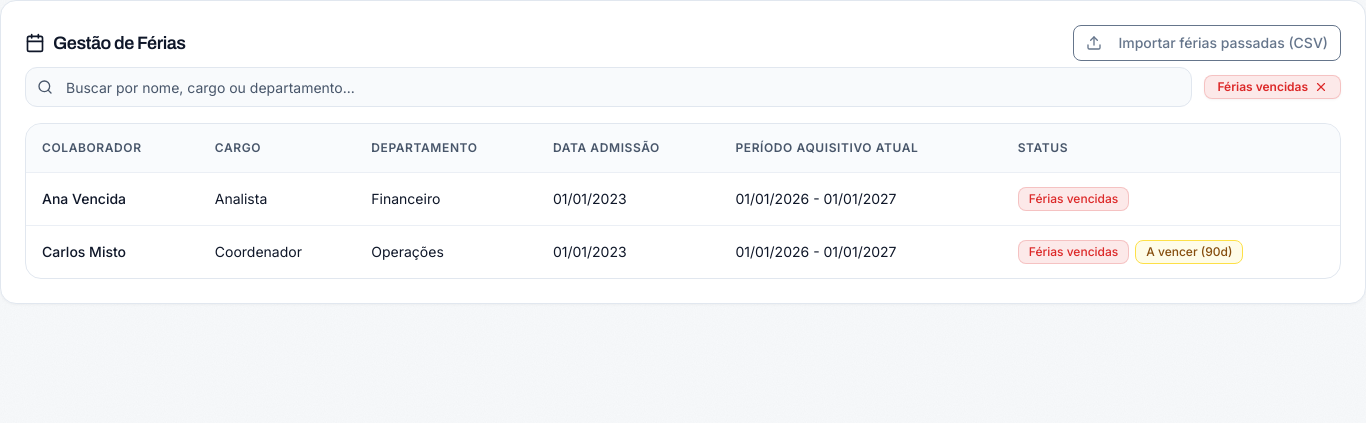
Test: ETAPA 3: ColaboradoresFeriasList — Filtro Visual, Chip, Badges e Empty State › Empty state correto para filtro 'vencidas' quando nenhum resultado
The image size is (1366, 423).
Later steps or results of the test are not shown.
Step 1. Type "NomeInexistente" into the field with placeholder "Buscar por nome, cargo ou departamento..." → (609, 87), box [25,67,1192,107]
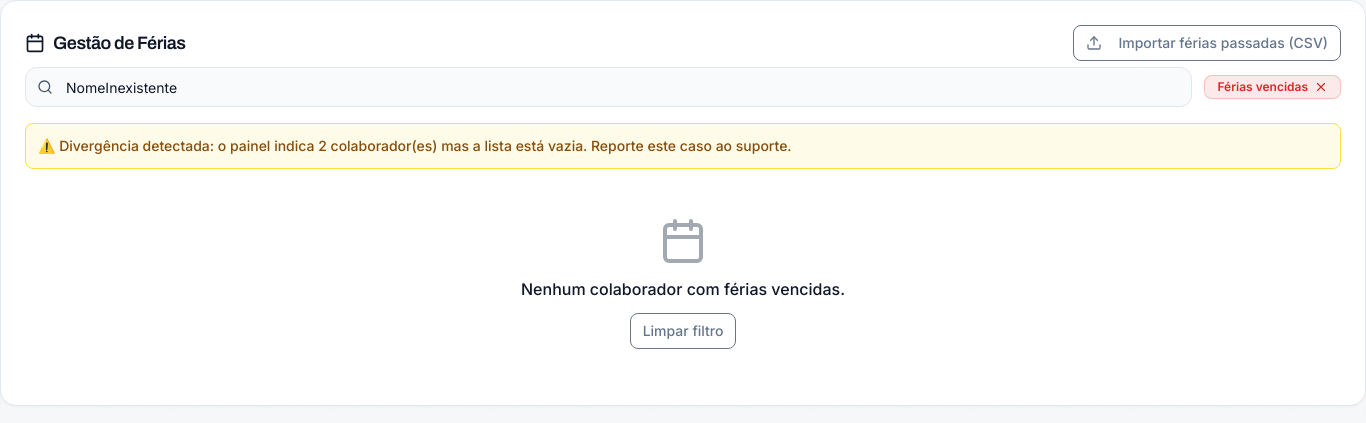
Expected: the text "Nenhum colaborador com férias vencidas." is shown, [521,279,845,299]
